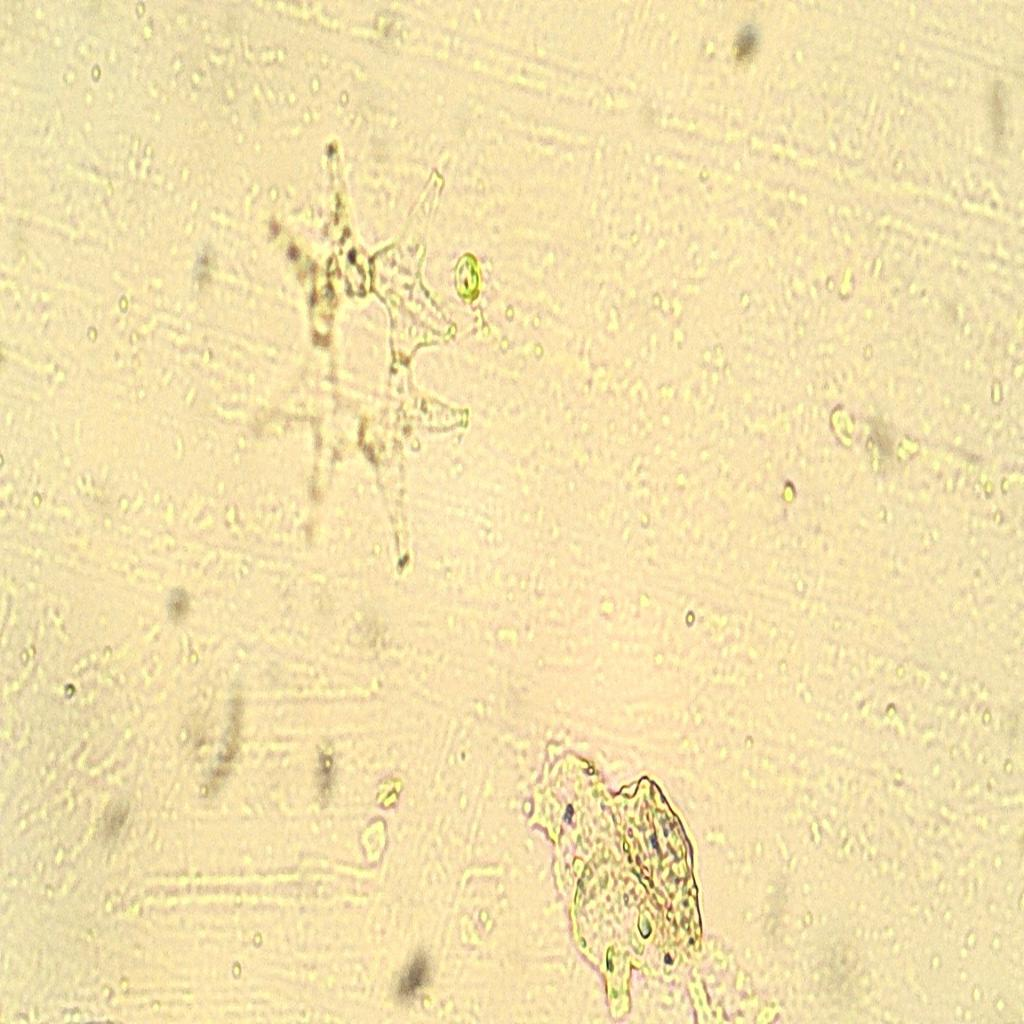Pediastrum_75TH: (230, 132, 493, 594)
